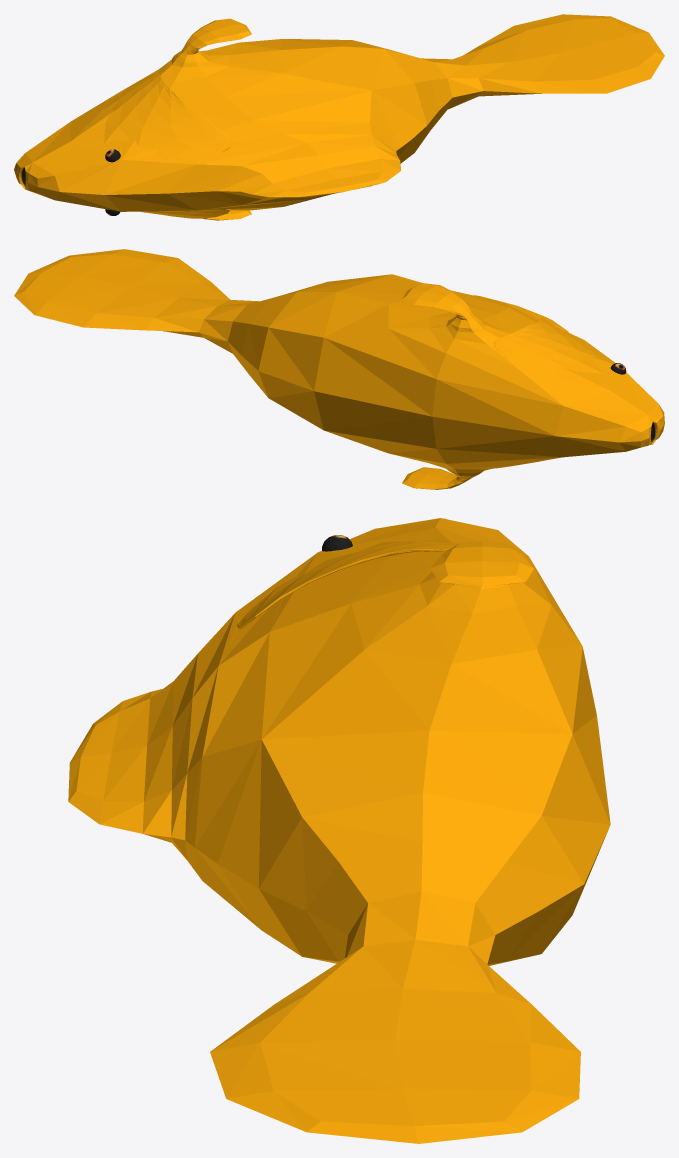
The model's file is golden_fish.obj.
The picture shows the model from 3 angles, top to bottom: view 1: azimuth 30°, elevation 25°; view 2: azimuth 150°, elevation 25°; view 3: azimuth 270°, elevation 25°; orthographic projection. The views are drawn at different scales.
Visible parts, largest first — view 1: Object.1; view 2: Object.1; view 3: Object.1.
Boxes of the visible parts, x1,y1,x2,y2 form: Object.1: (14,14,664,220); Object.1: (14,249,664,489); Object.1: (68,518,610,1143).
Size of the model in its own units: 9848 by 2838 by 3730.
1 material, 1 textured.
